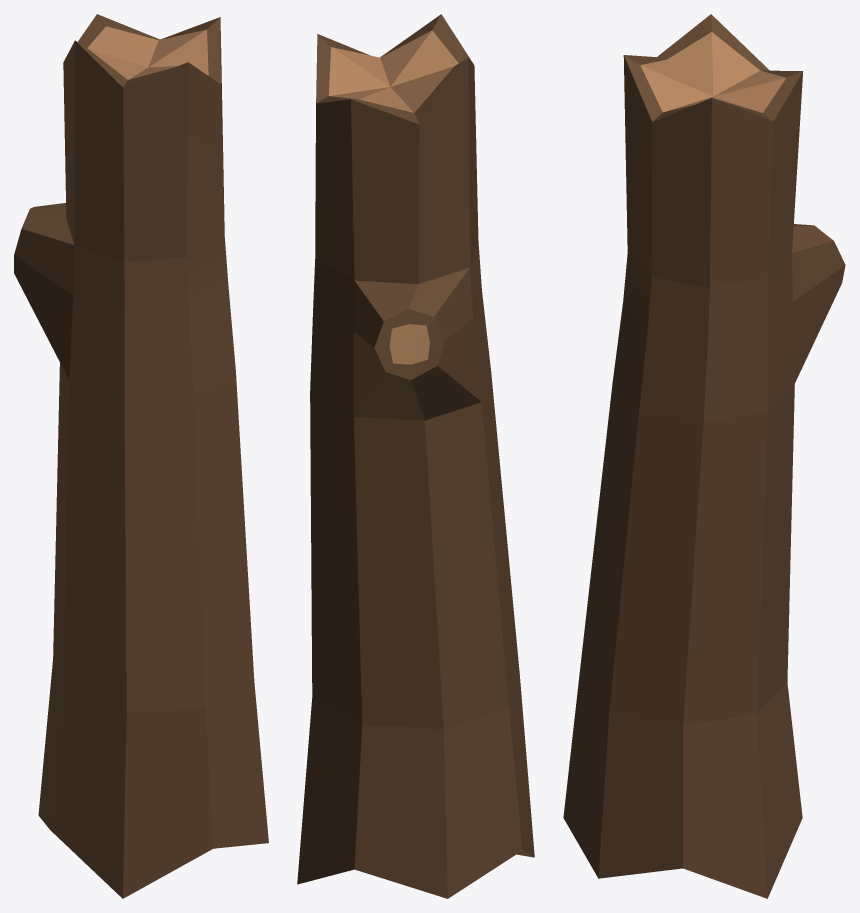
File: Log.fbx
3 renders of one model, left to right at view 1: azimuth 30°, elevation 25°; view 2: azimuth 150°, elevation 25°; view 3: azimuth 270°, elevation 25°, orthographic. The views are drawn at different scales.
Parts seen in each view (by area): view 1: model_log; view 2: model_log; view 3: model_log.
Part boxes in pixels (box(x1,y1,x2,y2)): model_log: box(14, 14, 268, 898); model_log: box(297, 14, 534, 898); model_log: box(563, 14, 845, 898).
Bounding box in the file's own units: 0.8129 × 3.07 × 0.9587.
